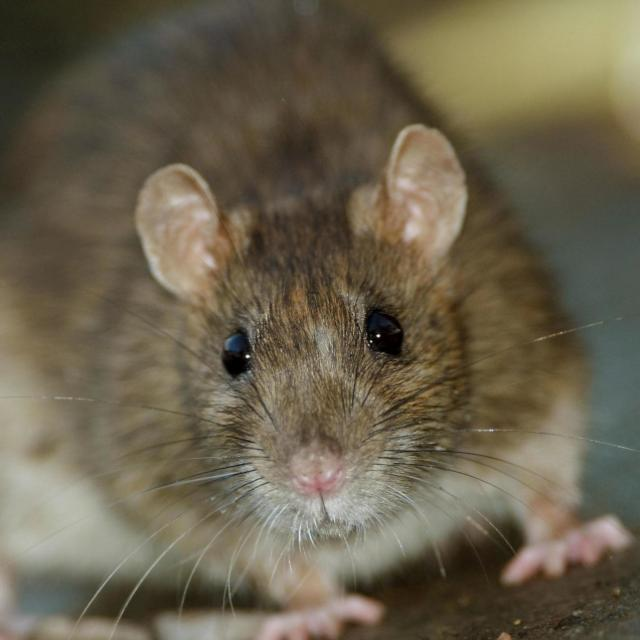rat: (102, 116, 550, 596)
